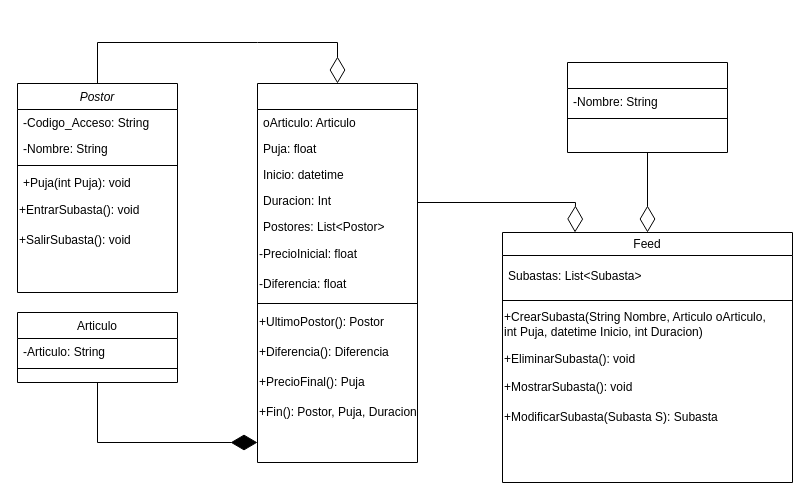
Some shapes in this 810 by 500 pixel diagram are drawn without their labels. The box of each missing label's shape, as (x1, y1, x2, y2) in pixels:
Subasta: (256, 82, 418, 462)
Subastador: (566, 62, 728, 152)
